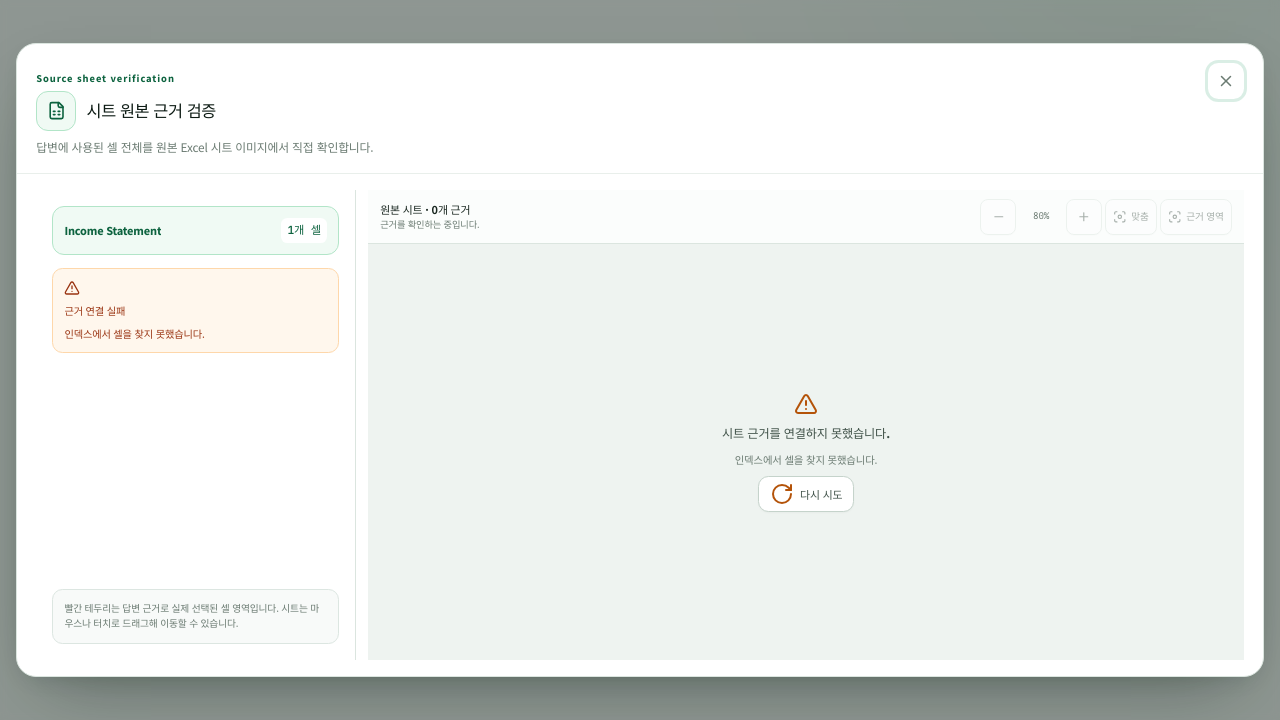
CellEvidenceModal › shows a terminal error state and can retry resolution
The image size is (1280, 720).
Expected: the message shows "인덱스에서 셀을 찾지 못했습니다.", [735, 452, 877, 466]
What coordinates should you click on to do the following:
click the button "다시 시도"
I would click on:
 (806, 494)
Its box is [758, 476, 854, 512].
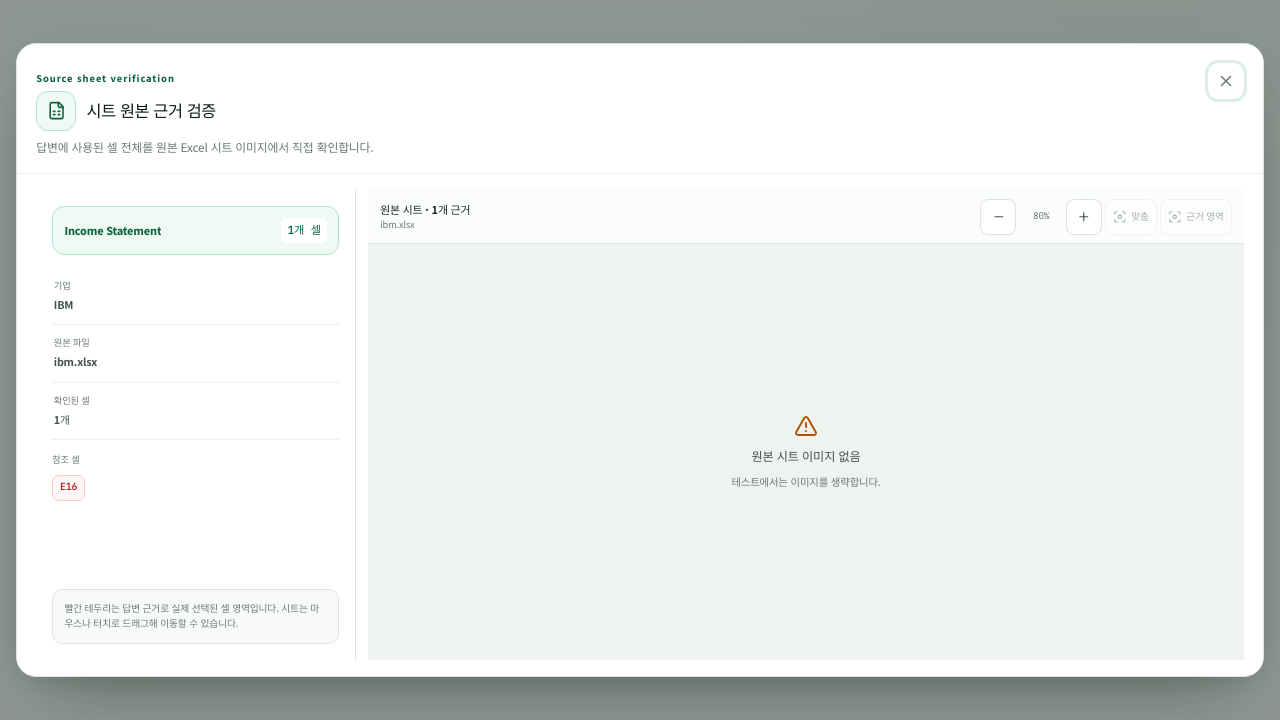
Now the text "E16" is shown, box [52, 475, 85, 501]
